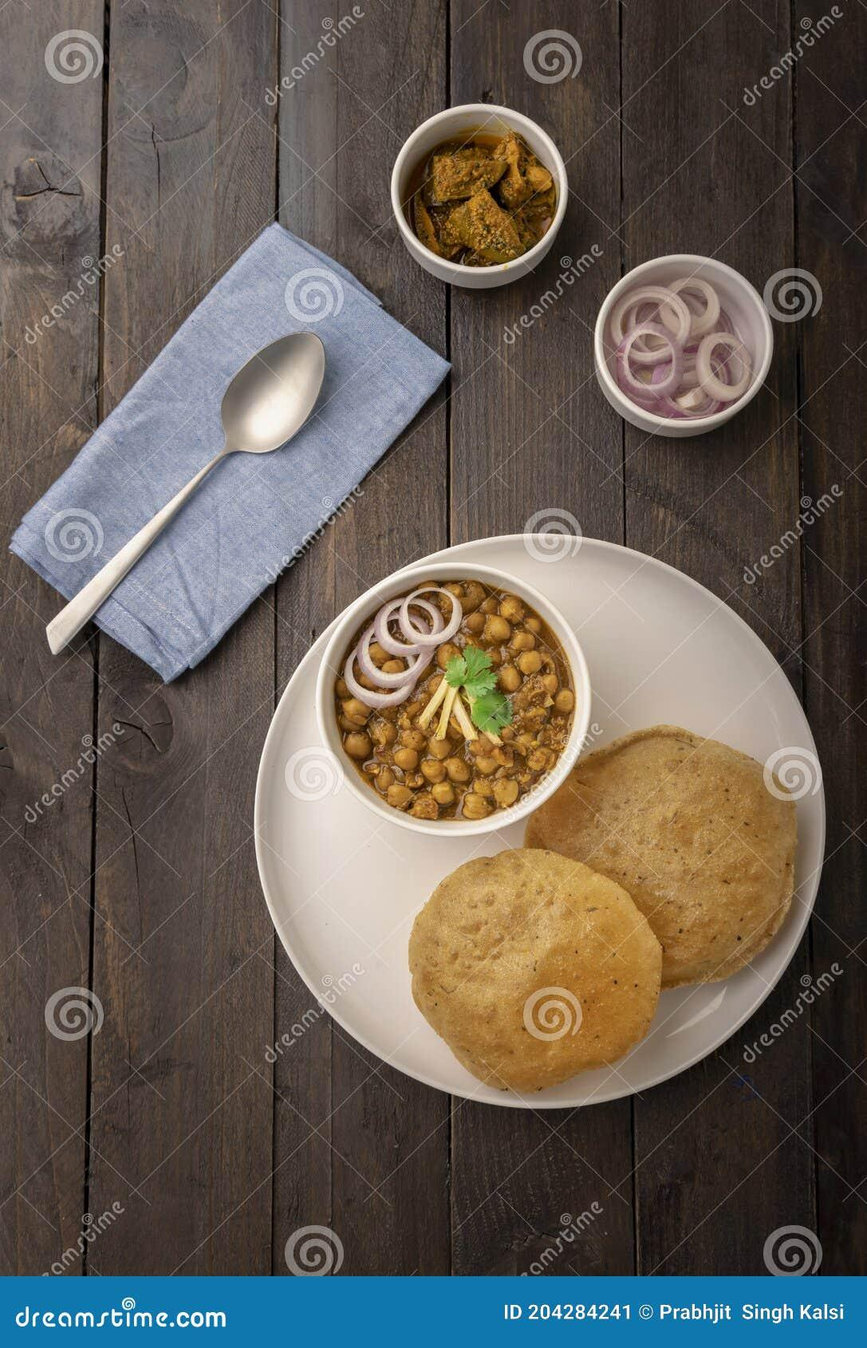chole: (340, 578, 574, 828)
puri: (401, 844, 691, 1101)
